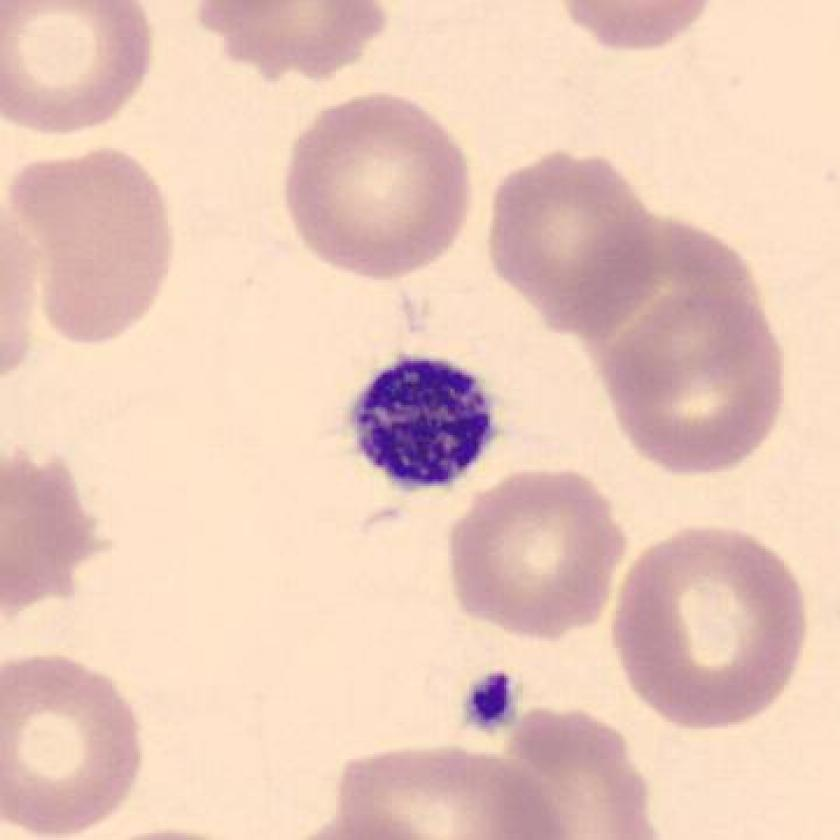platelets: (340, 346, 515, 505), (452, 658, 529, 751)
